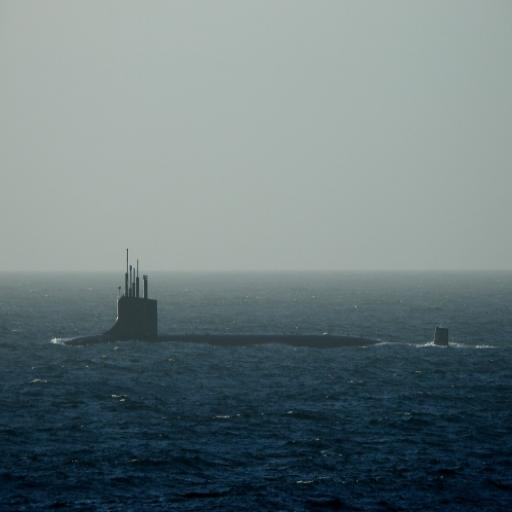submarine: (64, 246, 446, 351)
